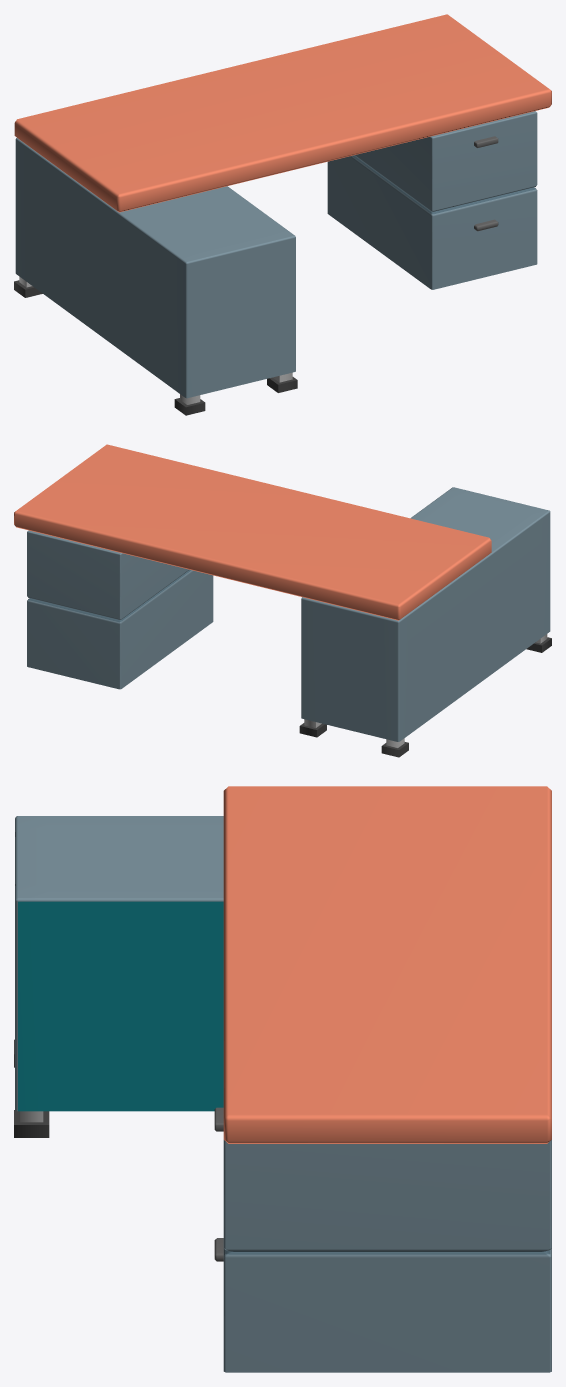
Rendered from Corwd_ComputerTable_01.fbx.
3 renders of one model, top to bottom at view 1: azimuth 30°, elevation 25°; view 2: azimuth 150°, elevation 25°; view 3: azimuth 270°, elevation 25°, orthographic. The views are drawn at different scales.
Visible parts, largest first — view 1: Corwd_ComputerTable_01; view 2: Corwd_ComputerTable_01; view 3: Corwd_ComputerTable_01.
Boxes of the visible parts, bbox=[...] form: Corwd_ComputerTable_01: bbox=[14, 14, 551, 415]; Corwd_ComputerTable_01: bbox=[14, 444, 551, 757]; Corwd_ComputerTable_01: bbox=[14, 786, 551, 1372].
Size of the model in its own units: 357 by 134 by 244.
